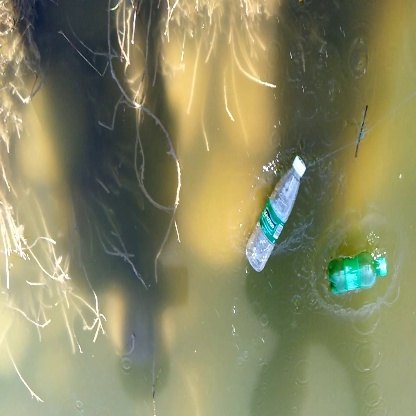bottle: (245, 150, 306, 282), (322, 241, 394, 308)
